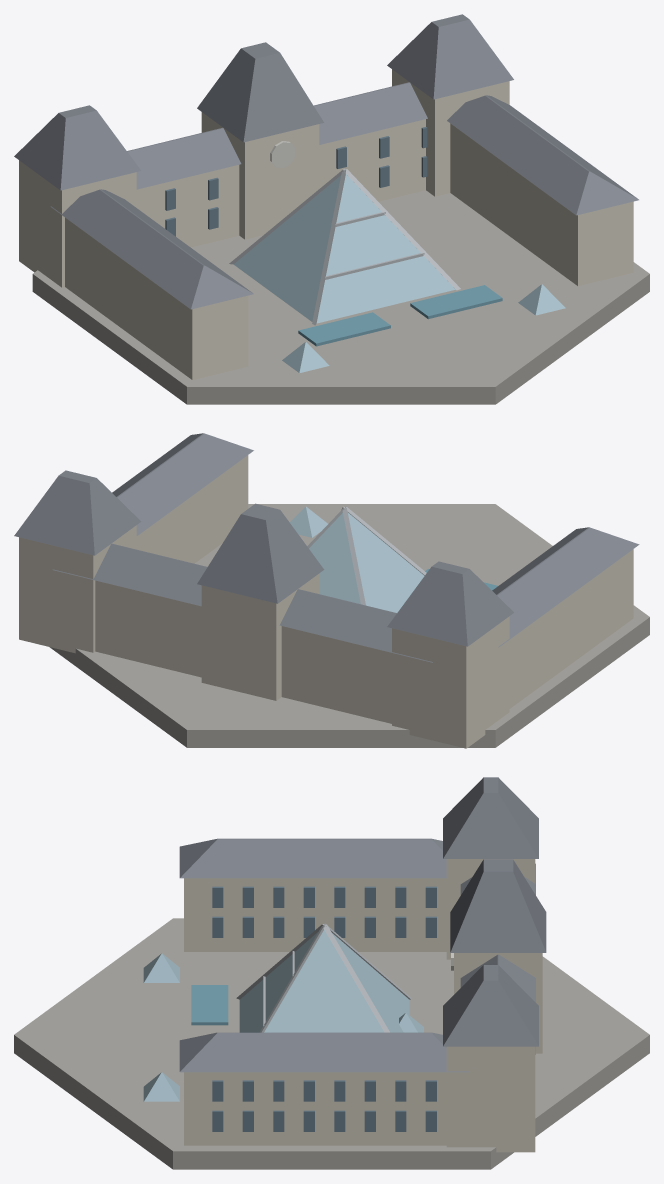
File: louvre.glb
The picture shows the model from 3 angles, top to bottom: view 1: azimuth 30°, elevation 25°; view 2: azimuth 150°, elevation 25°; view 3: azimuth 270°, elevation 25°; orthographic projection. The views are drawn at different scales.
Parts seen in each view (by area): view 1: LOD0; view 2: LOD0; view 3: LOD0.
Boxes of the visible parts, x1,y1,x2,y2 form: LOD0: (14,14,649,404); LOD0: (14,433,649,748); LOD0: (14,777,649,1169).
Size of what is drawn, in the model's own units: 1.49 by 0.56 by 1.72.
